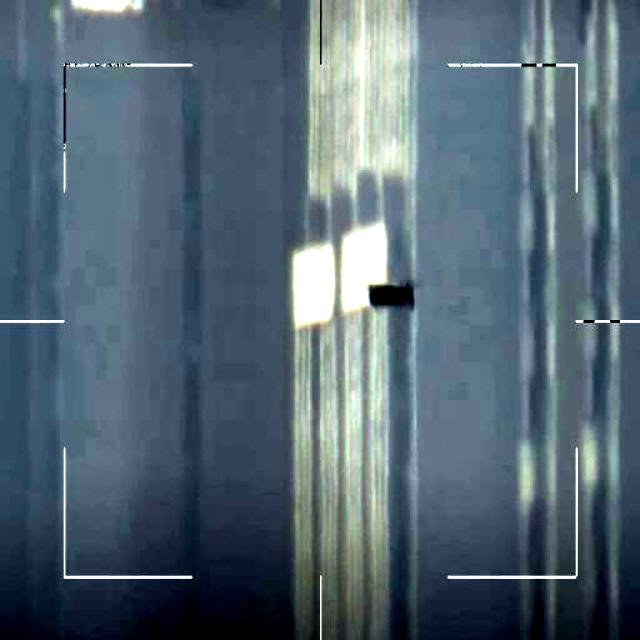bird: (368, 274, 415, 305)
